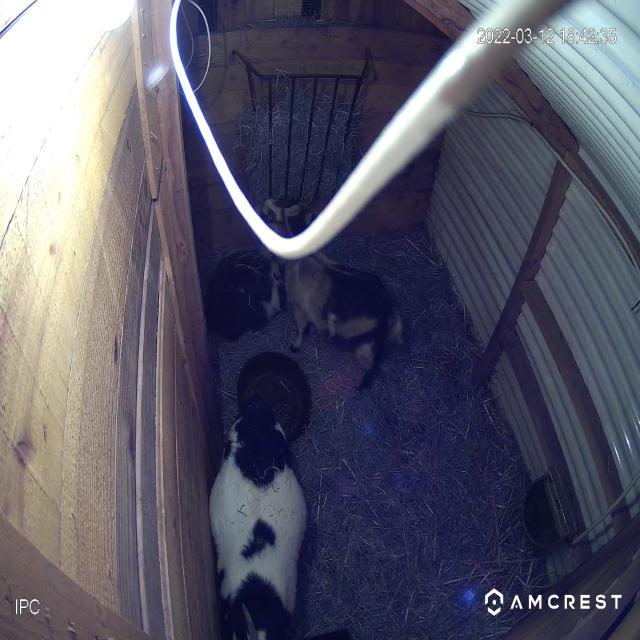goat: (252, 196, 420, 393), (208, 370, 306, 640), (207, 240, 293, 352)
